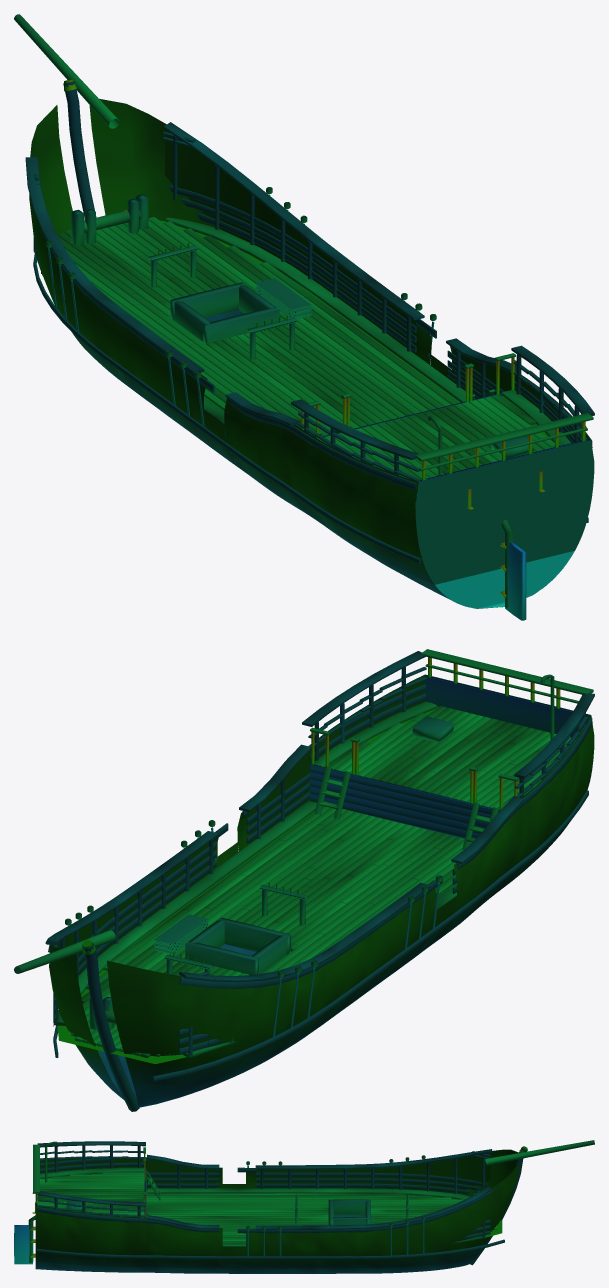
The model's file is terrace_hull.glb.
3 renders of one model, top to bottom at view 1: azimuth 30°, elevation 25°; view 2: azimuth 150°, elevation 25°; view 3: azimuth 270°, elevation 25°, orthographic. The views are drawn at different scales.
Parts seen in each view (by area): view 1: terrace_hull; view 2: terrace_hull; view 3: terrace_hull.
Boxes of the visible parts, x1,y1,x2,y2 form: terrace_hull: (14,14,594,620); terrace_hull: (14,649,594,1111); terrace_hull: (14,1140,594,1273).
Size of what is drawn, in the model's own units: 6.77 by 6.09 by 25.16.
